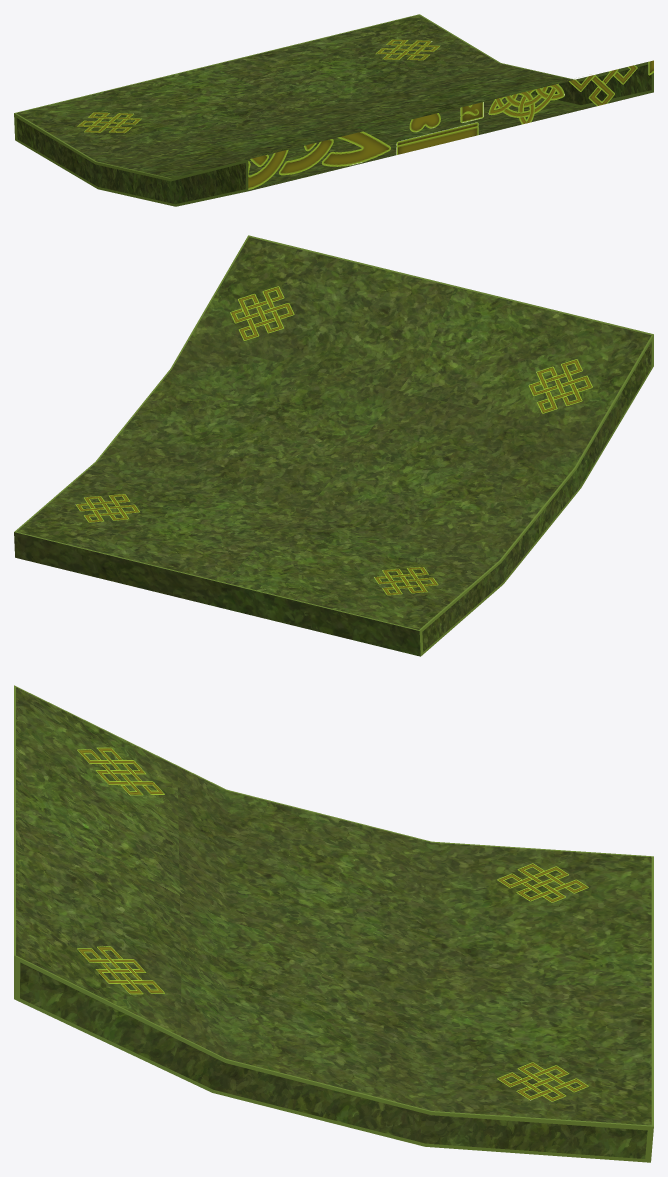
Rendered from mountain_ramp.gltf.
3 views of the same model, one above another, from view 1: azimuth 30°, elevation 25°; view 2: azimuth 150°, elevation 25°; view 3: azimuth 270°, elevation 25° (orthographic). The views are drawn at different scales.
Visible parts, largest first — view 1: mountain_ramp_glb; view 2: mountain_ramp_glb; view 3: mountain_ramp_glb.
Boxes of the visible parts, x1,y1,x2,y2 form: mountain_ramp_glb: (14,14,653,206); mountain_ramp_glb: (14,235,653,656); mountain_ramp_glb: (14,685,653,1162).
Size of what is drawn, in the model's own units: 4.02 by 1.44 by 4.02.
2 materials, 2 textured.
